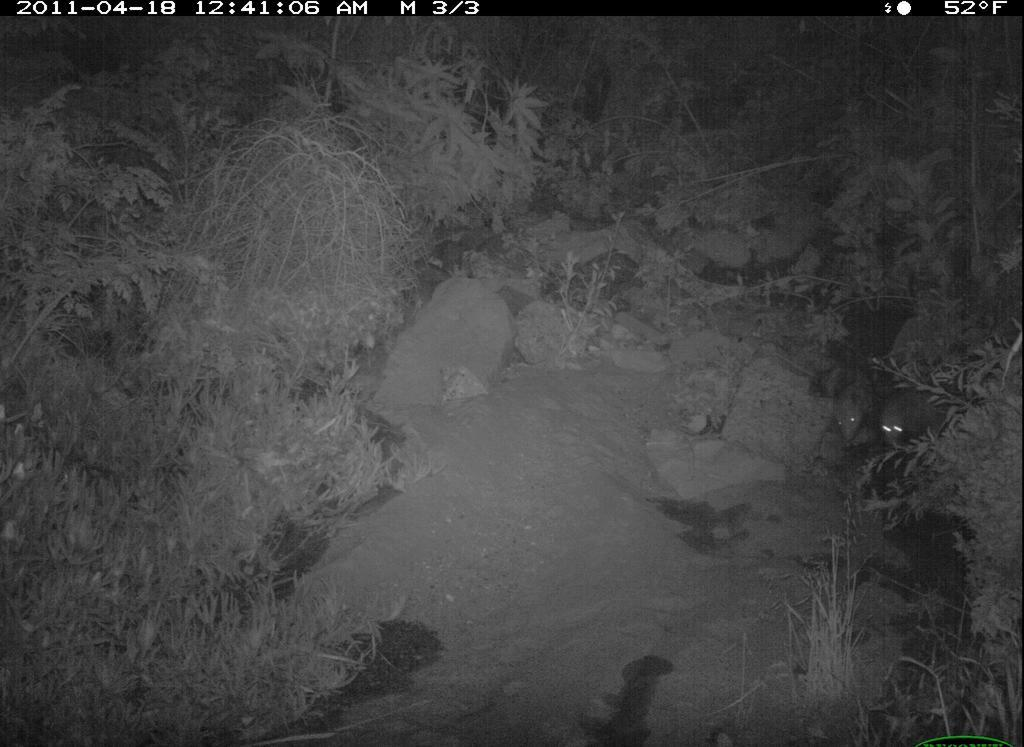opossum: (771, 342, 884, 452), (884, 379, 939, 454)
